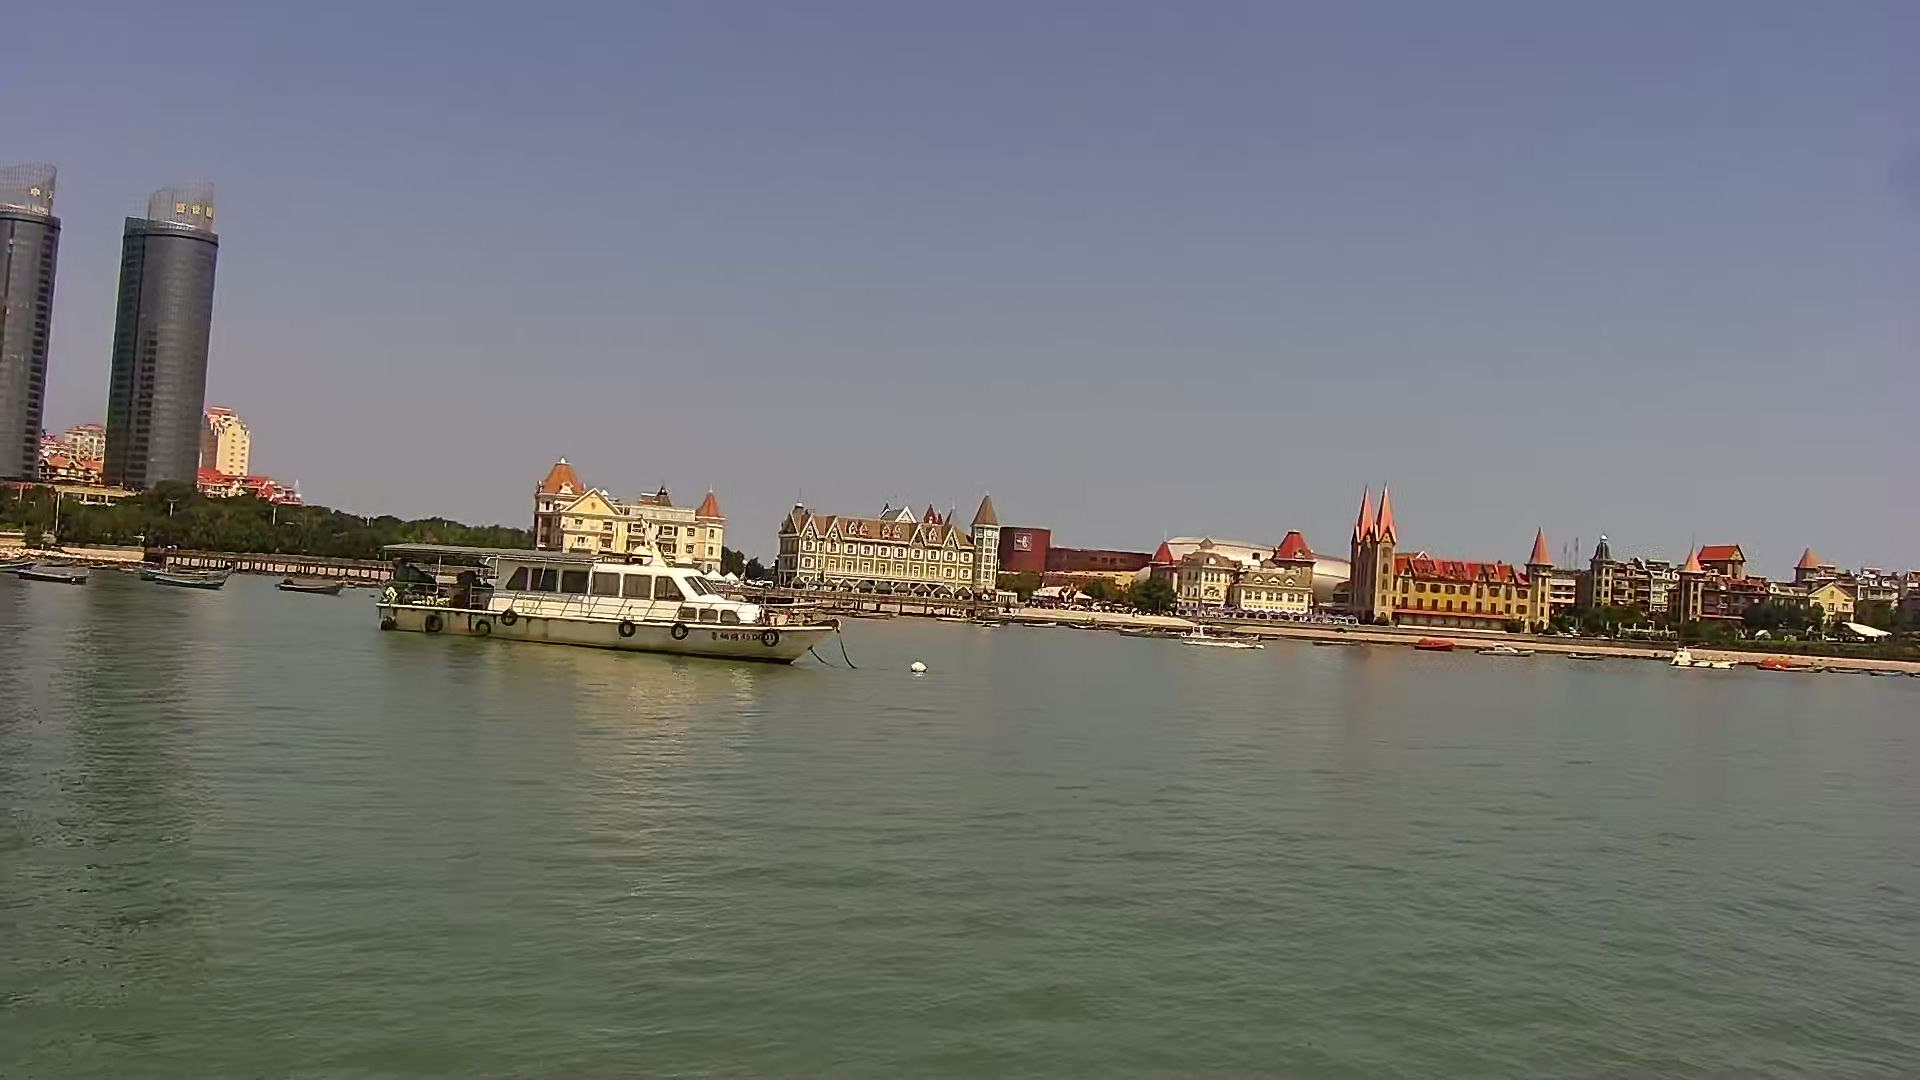ball: (906, 655, 928, 678)
boat: (136, 563, 240, 589), (21, 554, 95, 589), (273, 572, 353, 595)
ship: (377, 530, 840, 669)
